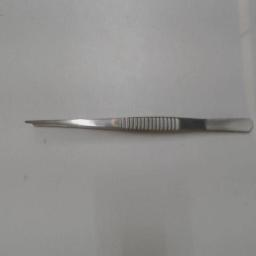DeBakey Dissector: (12, 103, 256, 143)
